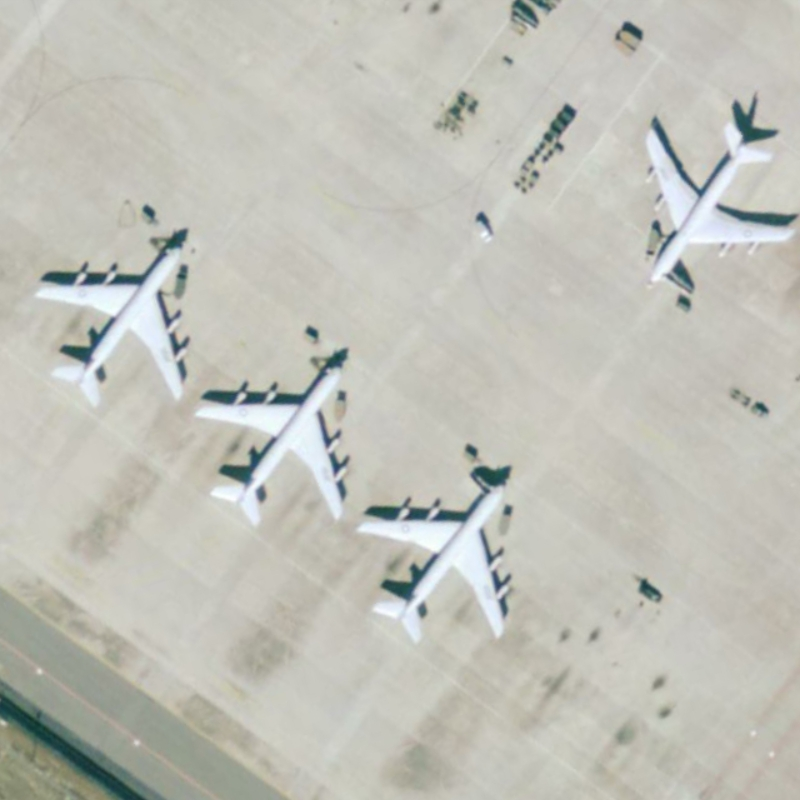A11: (26, 224, 198, 410), (352, 466, 519, 651), (192, 344, 356, 531), (637, 111, 797, 301)
